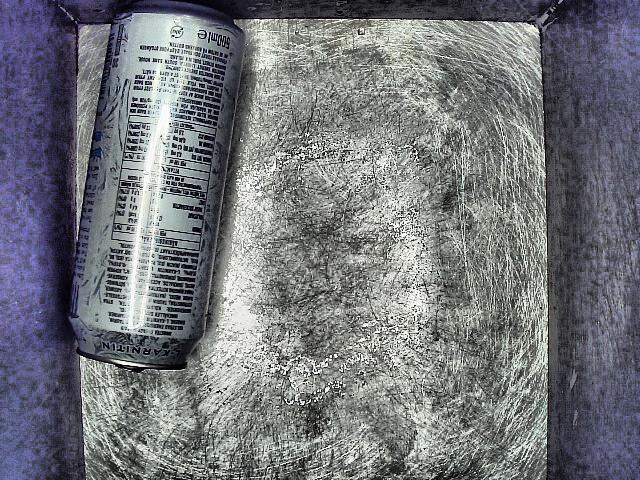Bottles: (67, 0, 248, 408)
